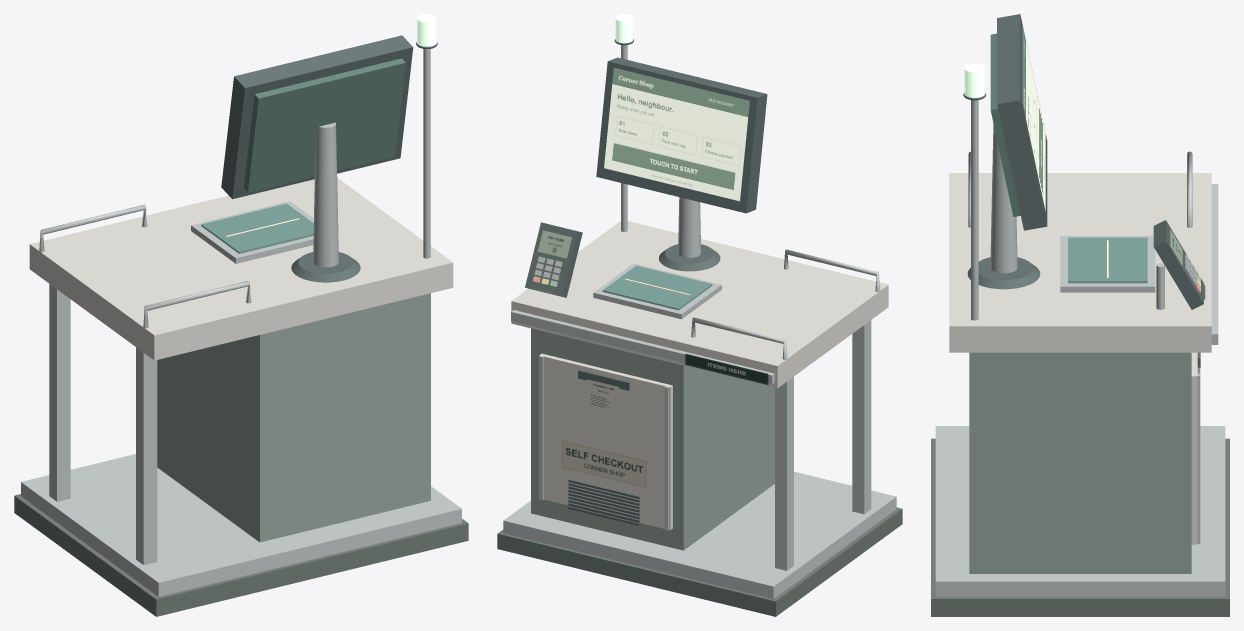
File: self-checkout-compact.glb
3 renders of one model, left to right at view 1: azimuth 30°, elevation 25°; view 2: azimuth 150°, elevation 25°; view 3: azimuth 270°, elevation 25°, orthographic. The views are drawn at different scales.
Parts seen in each view (by area): view 1: library-equipment-self-checkout-compact-scan-cabinet, library-equipment-self-checkout-compact-product-equipment-st, library-equipment-self-checkout-compact-product-equipment-cr, library-equipment-self-checkout-compact-screen-mount-screen-, library-equipment-self-checkout-compact-product-equipment-ru, library-equipment-self-checkout-compact-product-equipment-da, library-equipment-self-checkout-compact-scanner-window, library-equipment-self-checkout-compact-assistance-light; view 2: library-equipment-self-checkout-compact-product-equipment-cr, library-equipment-self-checkout-compact-product-equipment-st, library-equipment-self-checkout-compact-scan-cabinet, library-equipment-self-checkout-compact-screen-mount-touchsc, library-equipment-self-checkout-compact-product-equipment-da, library-equipment-self-checkout-compact-product-equipment-ru, library-equipment-self-checkout-compact-scanner-window, library-equipment-self-checkout-compact-front-brand, library-equipment-self-checkout-compact-receipt-paper, library-equipment-self-checkout-compact-bagging-sign, library-equipment-self-checkout-compact-payment-terminal-ter; view 3: library-equipment-self-checkout-compact-scan-cabinet, library-equipment-self-checkout-compact-product-equipment-cr, library-equipment-self-checkout-compact-product-equipment-st, library-equipment-self-checkout-compact-product-equipment-da, library-equipment-self-checkout-compact-product-equipment-ru, library-equipment-self-checkout-compact-scanner-window, library-equipment-self-checkout-compact-screen-mount-touchsc, library-equipment-self-checkout-compact-screen-mount-screen-, library-equipment-self-checkout-compact-assistance-light.
Part boxes in pixels (left/top/right/bottom): library-equipment-self-checkout-compact-scan-cabinet: left=157, top=293, right=430, bottom=542; library-equipment-self-checkout-compact-product-equipment-st: left=21, top=49, right=461, bottom=596; library-equipment-self-checkout-compact-product-equipment-cr: left=29, top=178, right=453, bottom=360; library-equipment-self-checkout-compact-screen-mount-screen-: left=244, top=58, right=405, bottom=192; library-equipment-self-checkout-compact-product-equipment-ru: left=14, top=494, right=468, bottom=616; library-equipment-self-checkout-compact-product-equipment-da: left=221, top=35, right=437, bottom=282; library-equipment-self-checkout-compact-scanner-window: left=201, top=203, right=313, bottom=253; library-equipment-self-checkout-compact-assistance-light: left=417, top=14, right=436, bottom=46; library-equipment-self-checkout-compact-product-equipment-cr: left=511, top=221, right=888, bottom=530; library-equipment-self-checkout-compact-product-equipment-st: left=503, top=45, right=896, bottom=598; library-equipment-self-checkout-compact-scan-cabinet: left=531, top=328, right=774, bottom=550; library-equipment-self-checkout-compact-screen-mount-touchsc: left=604, top=67, right=749, bottom=201; library-equipment-self-checkout-compact-product-equipment-da: left=525, top=39, right=767, bottom=525; library-equipment-self-checkout-compact-product-equipment-ru: left=497, top=287, right=902, bottom=616; library-equipment-self-checkout-compact-scanner-window: left=602, top=265, right=712, bottom=310; library-equipment-self-checkout-compact-front-brand: left=561, top=440, right=646, bottom=488; library-equipment-self-checkout-compact-receipt-paper: left=587, top=379, right=619, bottom=418; library-equipment-self-checkout-compact-bagging-sign: left=685, top=353, right=768, bottom=384; library-equipment-self-checkout-compact-payment-terminal-ter: left=537, top=230, right=571, bottom=258; library-equipment-self-checkout-compact-scan-cabinet: left=969, top=352, right=1191, bottom=573; library-equipment-self-checkout-compact-product-equipment-cr: left=949, top=173, right=1211, bottom=544; library-equipment-self-checkout-compact-product-equipment-st: left=935, top=100, right=1225, bottom=596; library-equipment-self-checkout-compact-product-equipment-da: left=963, top=14, right=1203, bottom=367; library-equipment-self-checkout-compact-product-equipment-ru: left=931, top=284, right=1229, bottom=616; library-equipment-self-checkout-compact-scanner-window: left=1068, top=237, right=1147, bottom=283; library-equipment-self-checkout-compact-screen-mount-touchsc: left=1022, top=24, right=1045, bottom=210; library-equipment-self-checkout-compact-screen-mount-screen-: left=990, top=33, right=1020, bottom=216; library-equipment-self-checkout-compact-assistance-light: left=964, top=63, right=985, bottom=97.
Size of the model in its own units: 1.04 by 1.63 by 0.82.
Materials: 17 (5 with a texture image).
